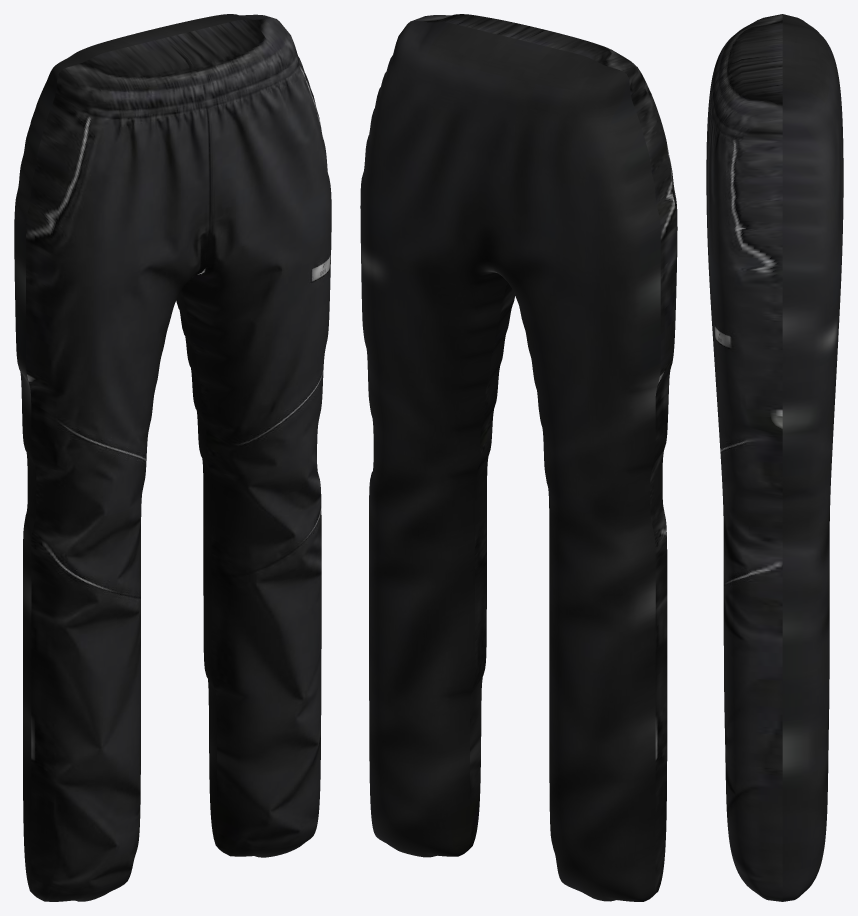
The picture shows the model from 3 angles, left to right: view 1: azimuth 30°, elevation 25°; view 2: azimuth 150°, elevation 25°; view 3: azimuth 270°, elevation 25°; orthographic projection. The views are drawn at different scales.
Visible parts, largest first — view 1: M02; view 2: M02; view 3: M02.
Boxes of the visible parts, bbox=[...] form: M02: bbox=[14, 14, 331, 901]; M02: bbox=[360, 14, 677, 901]; M02: bbox=[706, 14, 843, 901].
Size of the model in its own units: 0.672 by 1.86 by 0.2924.
Materials: 2 (2 with a texture image).
